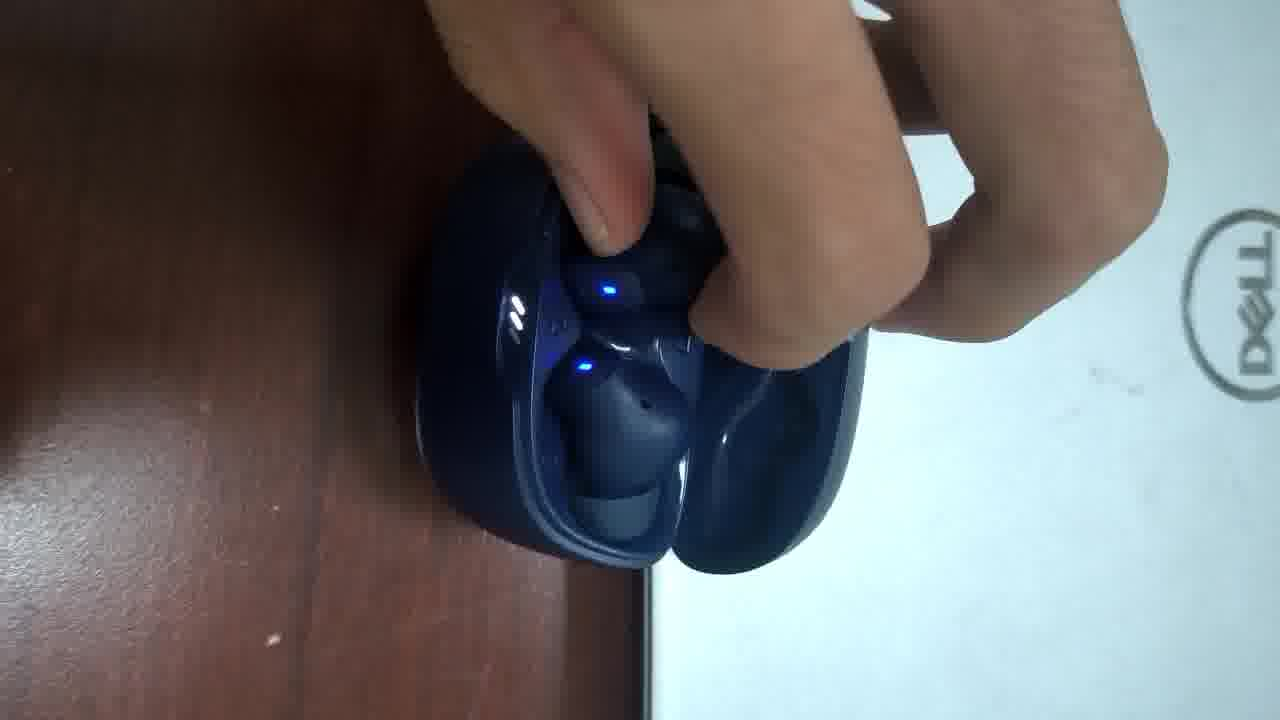Earbud: (545, 178, 722, 541), (545, 338, 689, 541)
